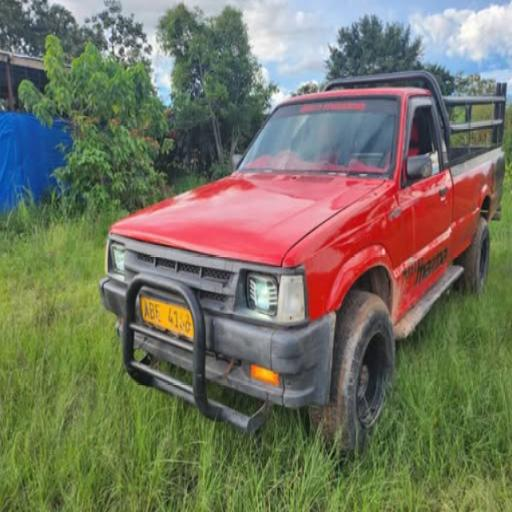number-plates: (137, 292, 195, 341)
